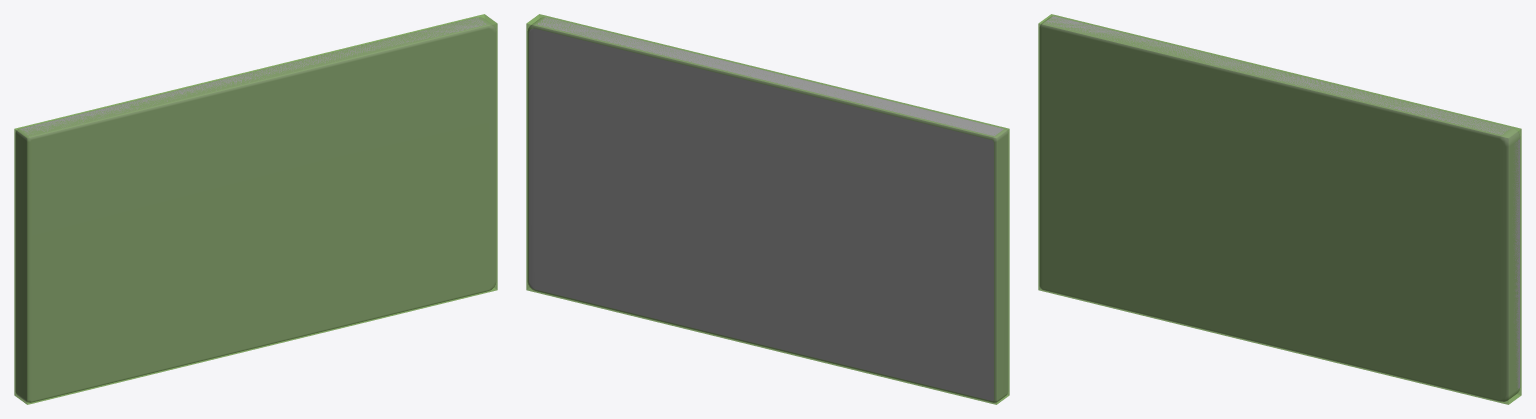
The model's file is M_md_StallRoof1_end_01.fbx.
3 renders of one model, left to right at view 1: azimuth 30°, elevation 25°; view 2: azimuth 150°, elevation 25°; view 3: azimuth 330°, elevation 25°, orthographic.
Visible parts, largest first — view 1: M_md_StallRoof1_end_01_col_01, M_md_StallRoof1_end_01_LOD0; view 2: M_md_StallRoof1_end_01_LOD0, M_md_StallRoof1_end_01_col_01; view 3: M_md_StallRoof1_end_01_col_01, M_md_StallRoof1_end_01_LOD0.
Part boxes in pixels (x1,y1,x2,y2): M_md_StallRoof1_end_01_col_01: [14, 14, 497, 404]; M_md_StallRoof1_end_01_LOD0: [15, 17, 496, 402]; M_md_StallRoof1_end_01_LOD0: [527, 17, 1008, 402]; M_md_StallRoof1_end_01_col_01: [526, 14, 1009, 404]; M_md_StallRoof1_end_01_col_01: [1038, 14, 1521, 404]; M_md_StallRoof1_end_01_LOD0: [1039, 16, 1520, 401].
Size of what is drawn, in the model's own units: 103 by 56.01 by 5.
